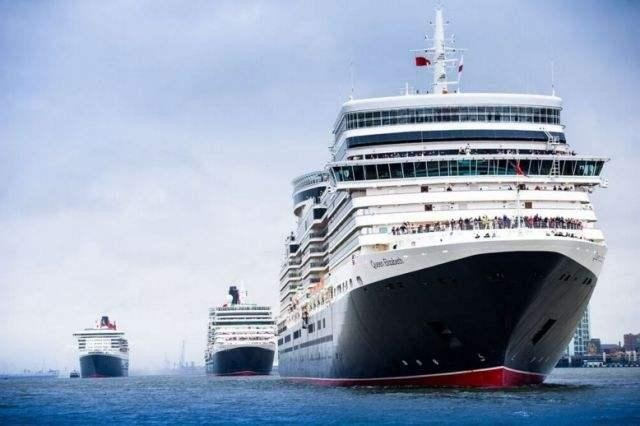youlun: (276, 22, 610, 386), (204, 286, 276, 376), (72, 313, 131, 379)
